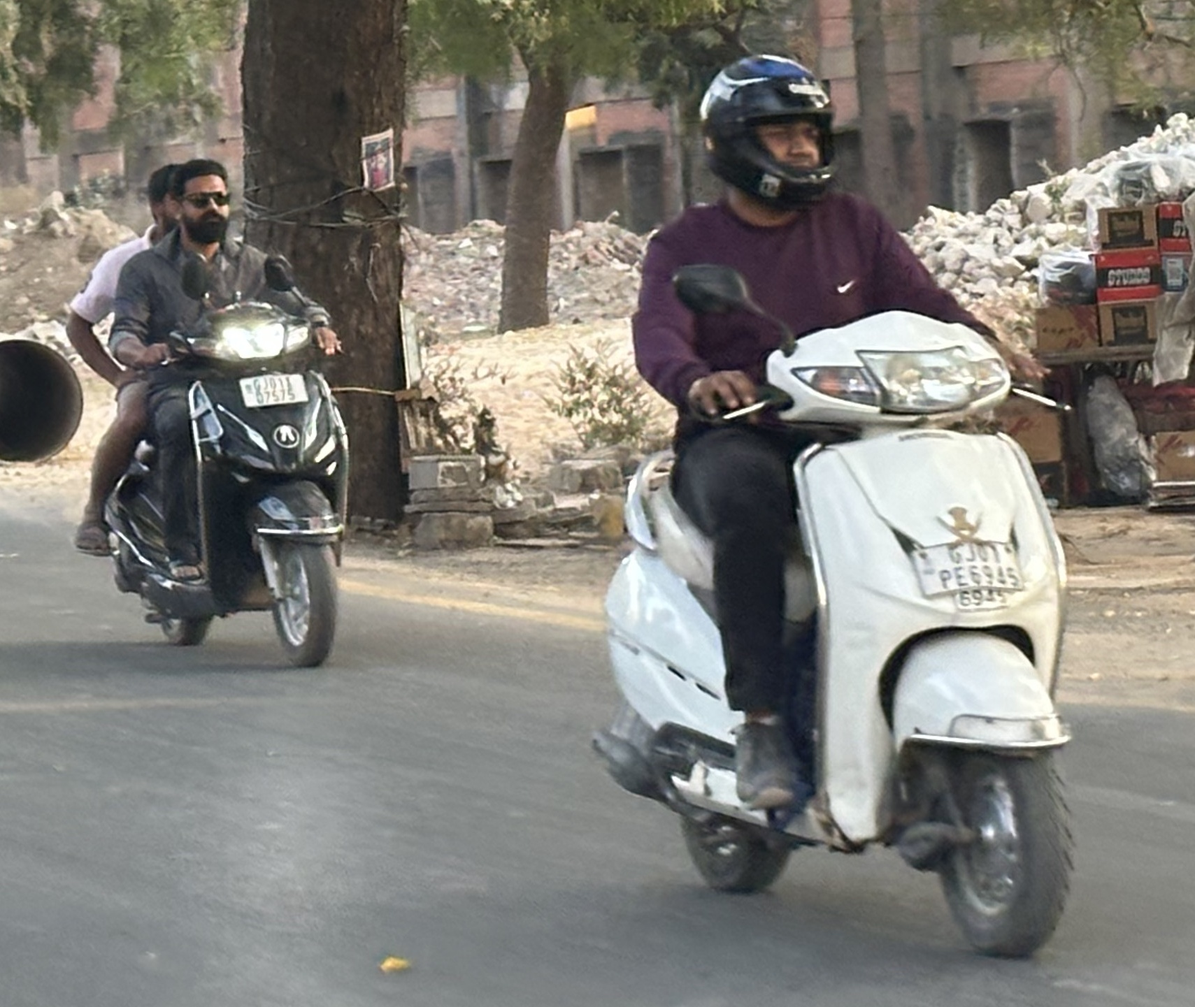BikeWithRider: (577, 45, 1092, 969), (52, 147, 369, 676)
Helmet: (681, 45, 858, 218)
NoHelmet: (166, 152, 243, 249), (138, 154, 193, 242)
